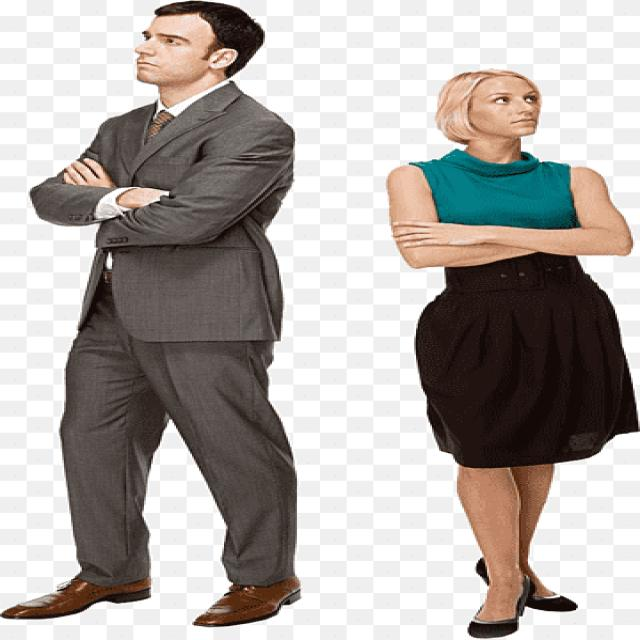adult: (2, 1, 316, 627), (380, 65, 640, 640)
